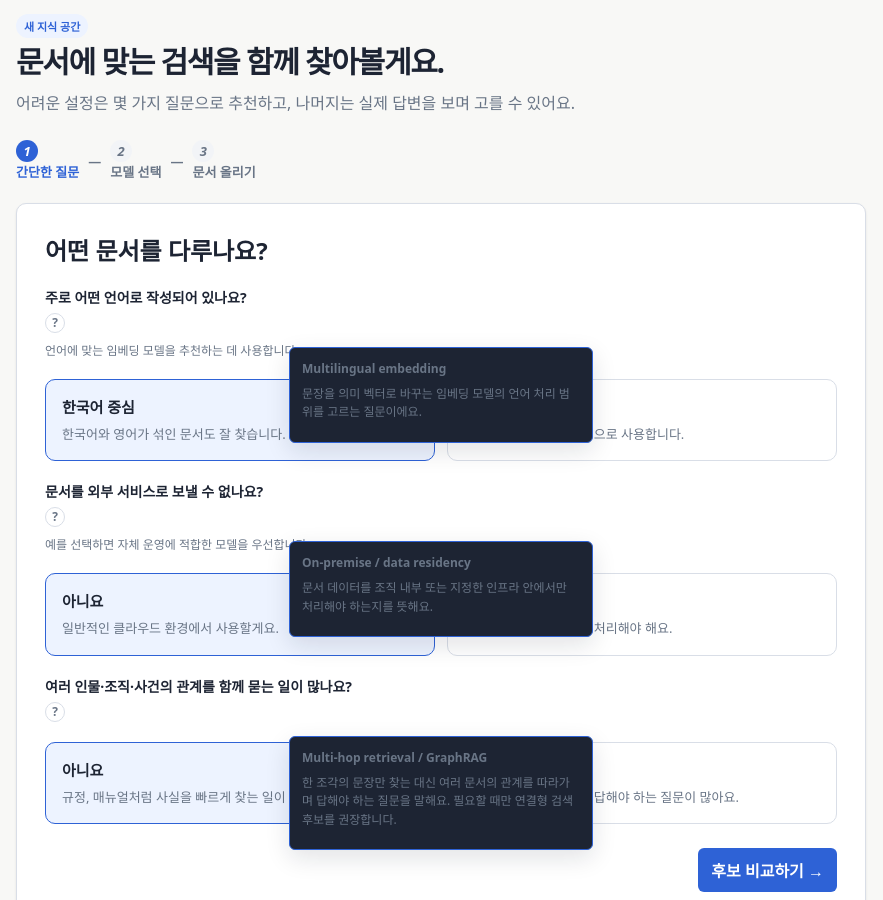
Test: RagCreatePage › opens a plain-language technical explanation from a question-mark label
This screenshot has width=883, height=900.
Click the button named "문서 언어 기술 설명": (55, 323) [45,313,65,333]
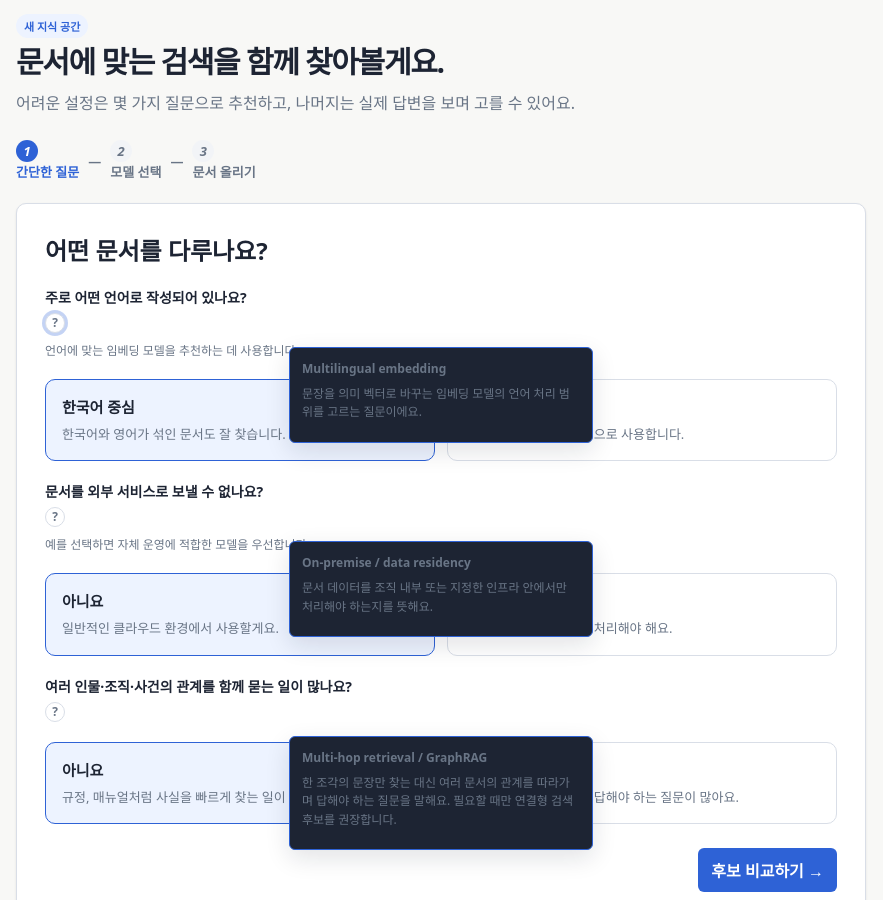
expect the text "Multilingual embedding" is shown: met, box [302,360,446,377]
expect the button named "문서 언어 기술 설명" is expanded: met, box [45,313,65,333]
